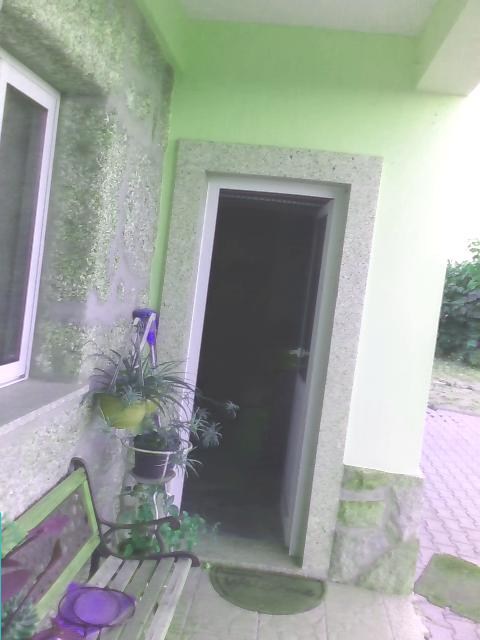open_door: (179, 184, 335, 505)
